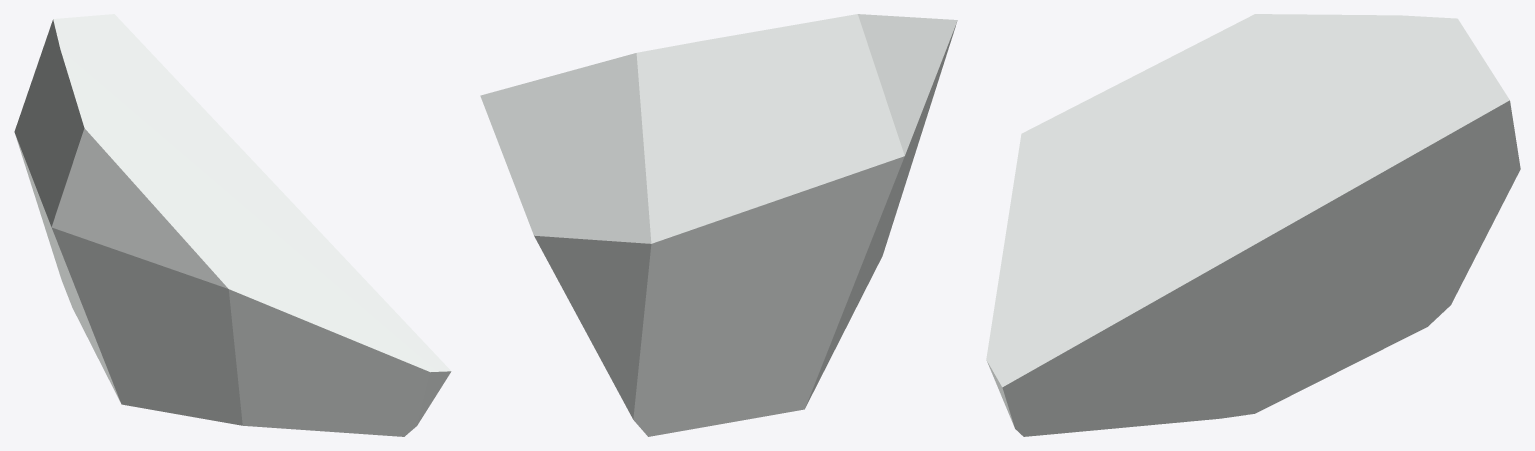
Rendered from Fragment007.fbx.
The picture shows the model from 3 angles, left to right: view 1: azimuth 30°, elevation 25°; view 2: azimuth 150°, elevation 25°; view 3: azimuth 270°, elevation 25°; orthographic projection. The views are drawn at different scales.
Parts seen in each view (by area): view 1: SatelliteFrag.007; view 2: SatelliteFrag.007; view 3: SatelliteFrag.007.
Boxes of the visible parts, x1,y1,x2,y2 form: SatelliteFrag.007: (14,14,451,436); SatelliteFrag.007: (480,14,957,436); SatelliteFrag.007: (986,14,1520,436).
Size of the model in its own units: 93.37 by 107 by 139.
